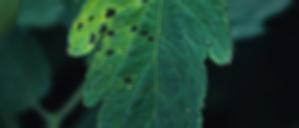Tomato Early blight leaf: (74, 0, 218, 128)
